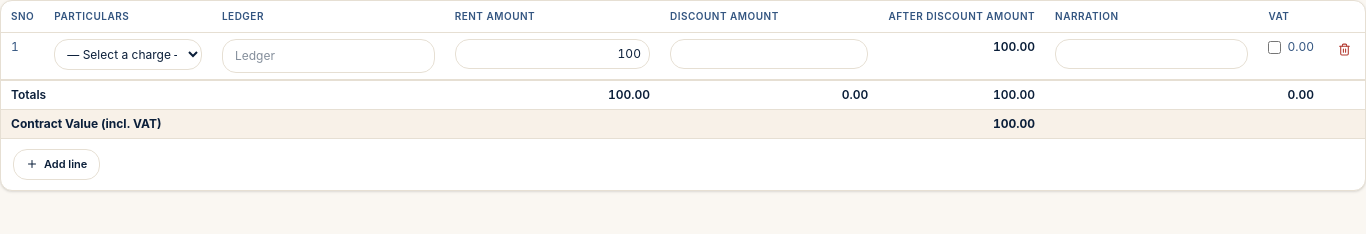
Test: LeaseLinesGrid › rentVat: the lease header's rent-VAT flag (#54) › a non-RENT charge keeps its catalogue default whatever the header says
Select "Admin Fee" in the dropdown with test id "lease-line-type-0": (128, 54) [54,39,202,70]
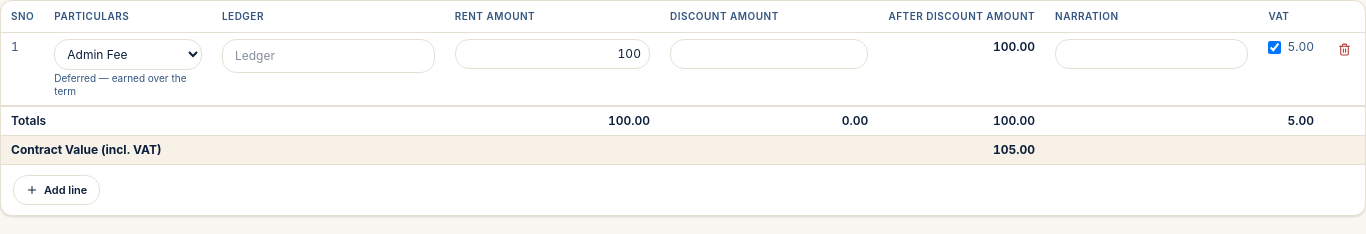
Check: the checkbox with test id "lease-line-vat-0" is checked, box [1268,40,1281,54]
